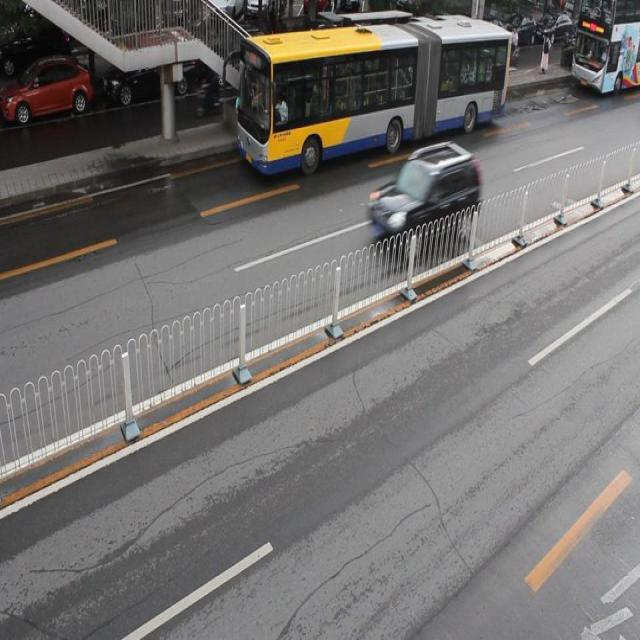car: (369, 140, 479, 259), (0, 59, 93, 128), (102, 43, 193, 104), (206, 29, 272, 93), (289, 24, 361, 81)
van: (239, 10, 511, 170), (572, 1, 640, 94)
